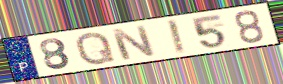5: (189, 13, 229, 50)
8: (234, 9, 266, 44), (39, 37, 72, 70)
I: (164, 18, 188, 56)
N: (109, 24, 158, 62)
Q: (74, 31, 118, 67)
